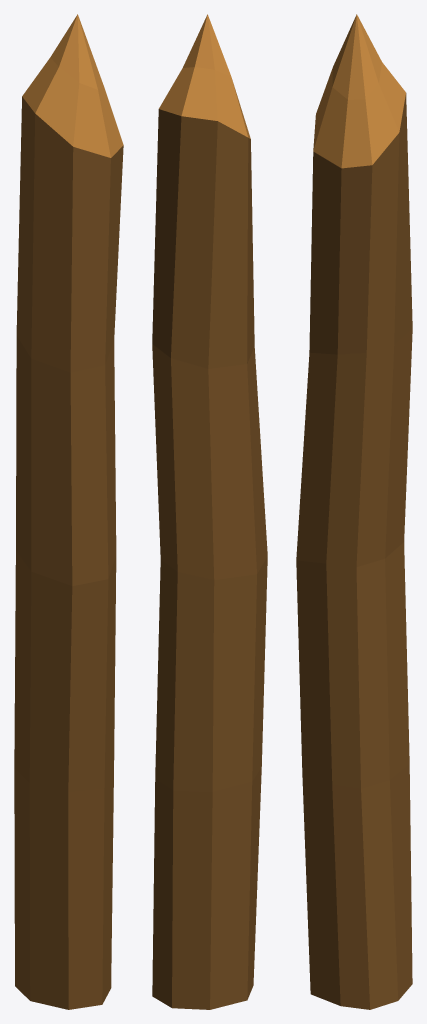
The model's file is viking s3.fbx.
The picture shows the model from 3 angles, left to right: view 1: azimuth 90°, elevation 25°; view 2: azimuth 150°, elevation 25°; view 3: azimuth 330°, elevation 25°; orthographic projection.
Parts seen in each view (by area): view 1: Cylinder.010; view 2: Cylinder.010; view 3: Cylinder.010.
Part boxes in pixels (x1=…): Cylinder.010: x1=14, y1=14, x2=123, y2=1009; Cylinder.010: x1=152, y1=14, x2=267, y2=1009; Cylinder.010: x1=296, y1=14, x2=412, y2=1009.
Size of the model in its own units: 12.92 by 130 by 13.19.
